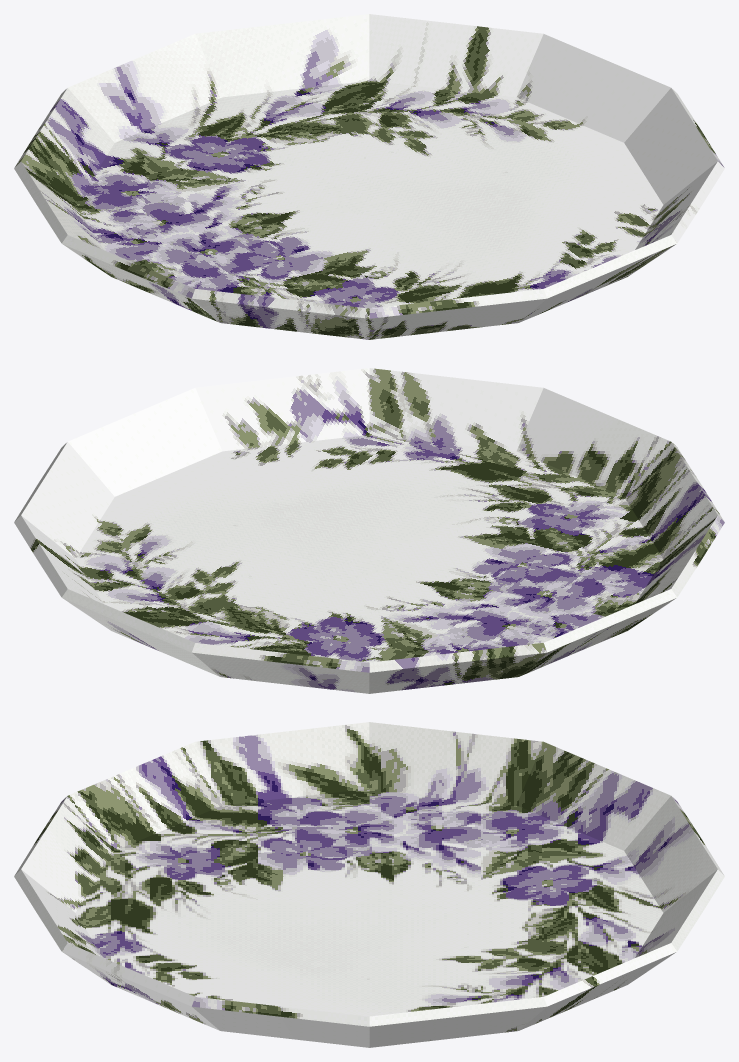
File: psx_plate.glb
3 renders of one model, top to bottom at view 1: azimuth 30°, elevation 25°; view 2: azimuth 150°, elevation 25°; view 3: azimuth 270°, elevation 25°, orthographic.
Parts seen in each view (by area): view 1: Circle_0; view 2: Circle_0; view 3: Circle_0.
Boxes of the visible parts, x1,y1,x2,y2 form: Circle_0: (14, 14, 724, 339); Circle_0: (14, 368, 724, 693); Circle_0: (14, 722, 724, 1047).
Size of the model in its own units: 0.3329 by 0.0276 by 0.3329.
1 material, 1 textured.
